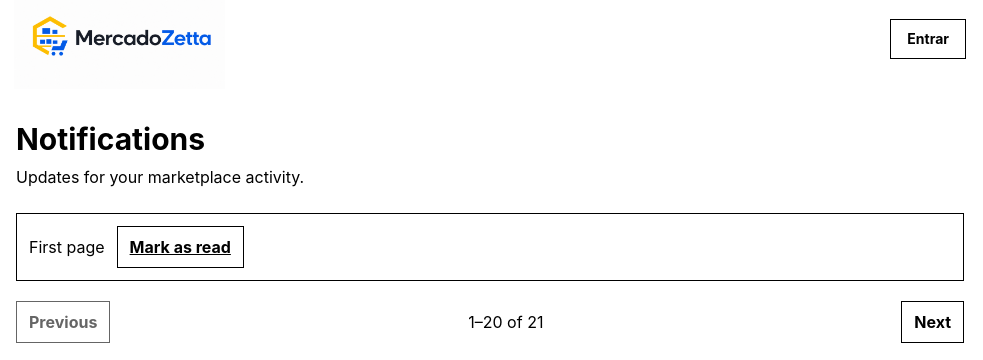
Notifications › loads bounded notification pages
This screenshot has width=983, height=360.
Click the button "Next": (933, 322) [901,301,964,343]
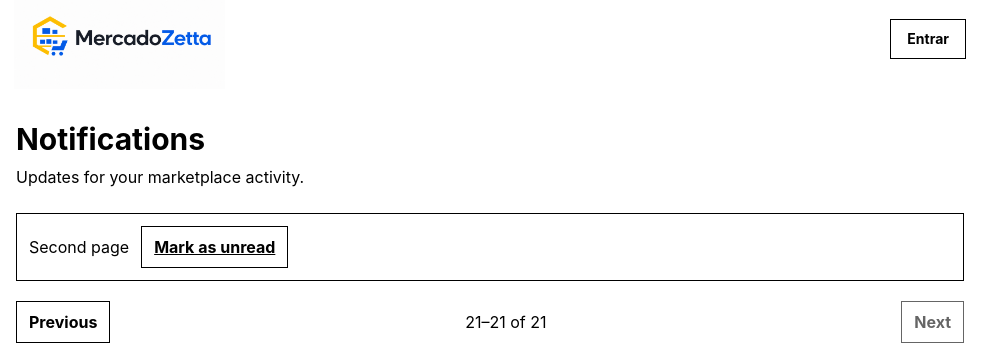
Now the list item "Second page" is shown, box [29,237,129,257]
